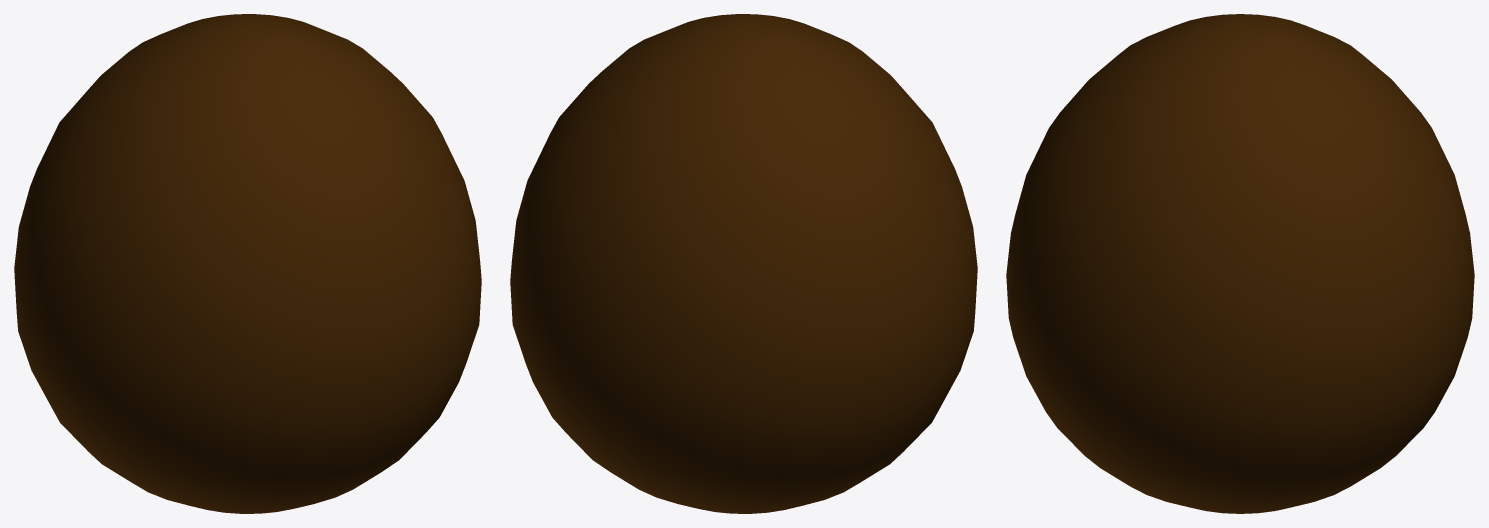
File: Whole Cococnut.FBX
3 renders of one model, left to right at view 1: azimuth 30°, elevation 25°; view 2: azimuth 150°, elevation 25°; view 3: azimuth 270°, elevation 25°, orthographic.
Parts seen in each view (by area): view 1: Sphere001; view 2: Sphere001; view 3: Sphere001.
Part boxes in pixels (bbox=[...]): Sphere001: bbox=[14, 14, 481, 513]; Sphere001: bbox=[510, 14, 977, 513]; Sphere001: bbox=[1006, 14, 1474, 513].
Bounding box in the file's own units: 93.95 × 103 × 93.95.
